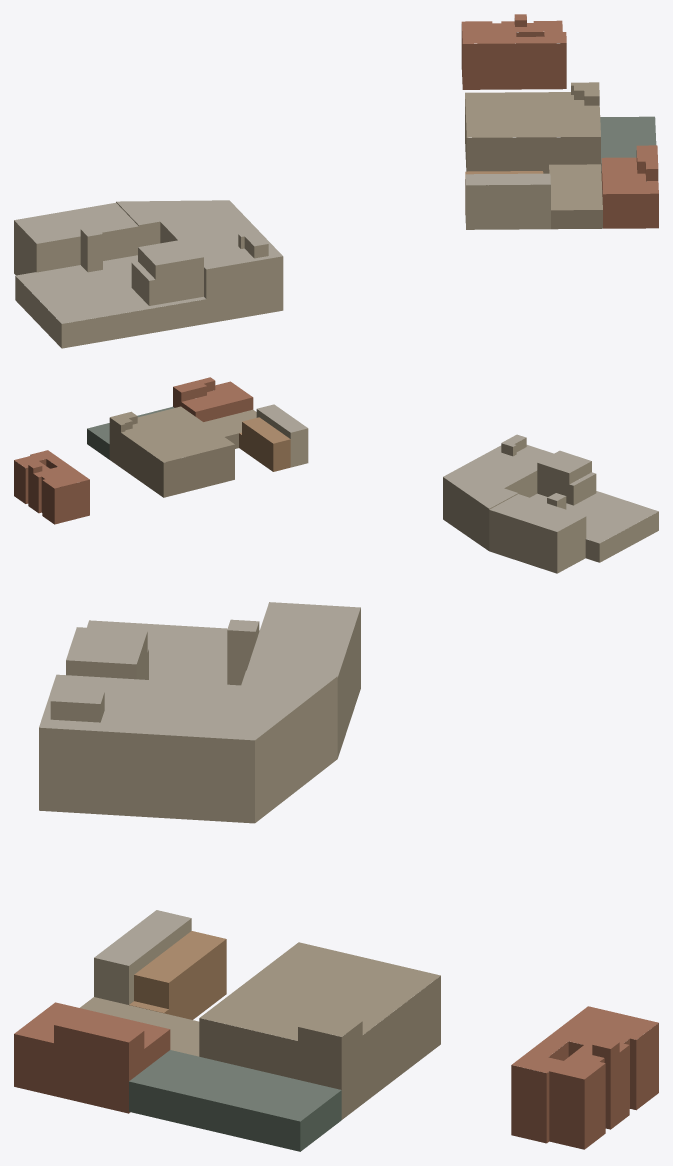
The model's file is tile--5_-11.glb.
3 views of the same model, one above another, from view 1: azimuth 30°, elevation 25°; view 2: azimuth 150°, elevation 25°; view 3: azimuth 270°, elevation 25° (orthographic). The views are drawn at different scales.
Parts seen in each view (by area): view 1: wall, roof; view 2: wall, roof; view 3: wall, roof.
Part boxes in pixels (x1,y1,x2,y2): wall: [14, 18, 658, 348]; roof: [14, 14, 658, 323]; wall: [14, 381, 658, 573]; roof: [14, 377, 658, 543]; wall: [14, 608, 658, 1151]; roof: [14, 602, 658, 1121].
Bounding box in the file's own units: 214 × 20.99 × 118.
